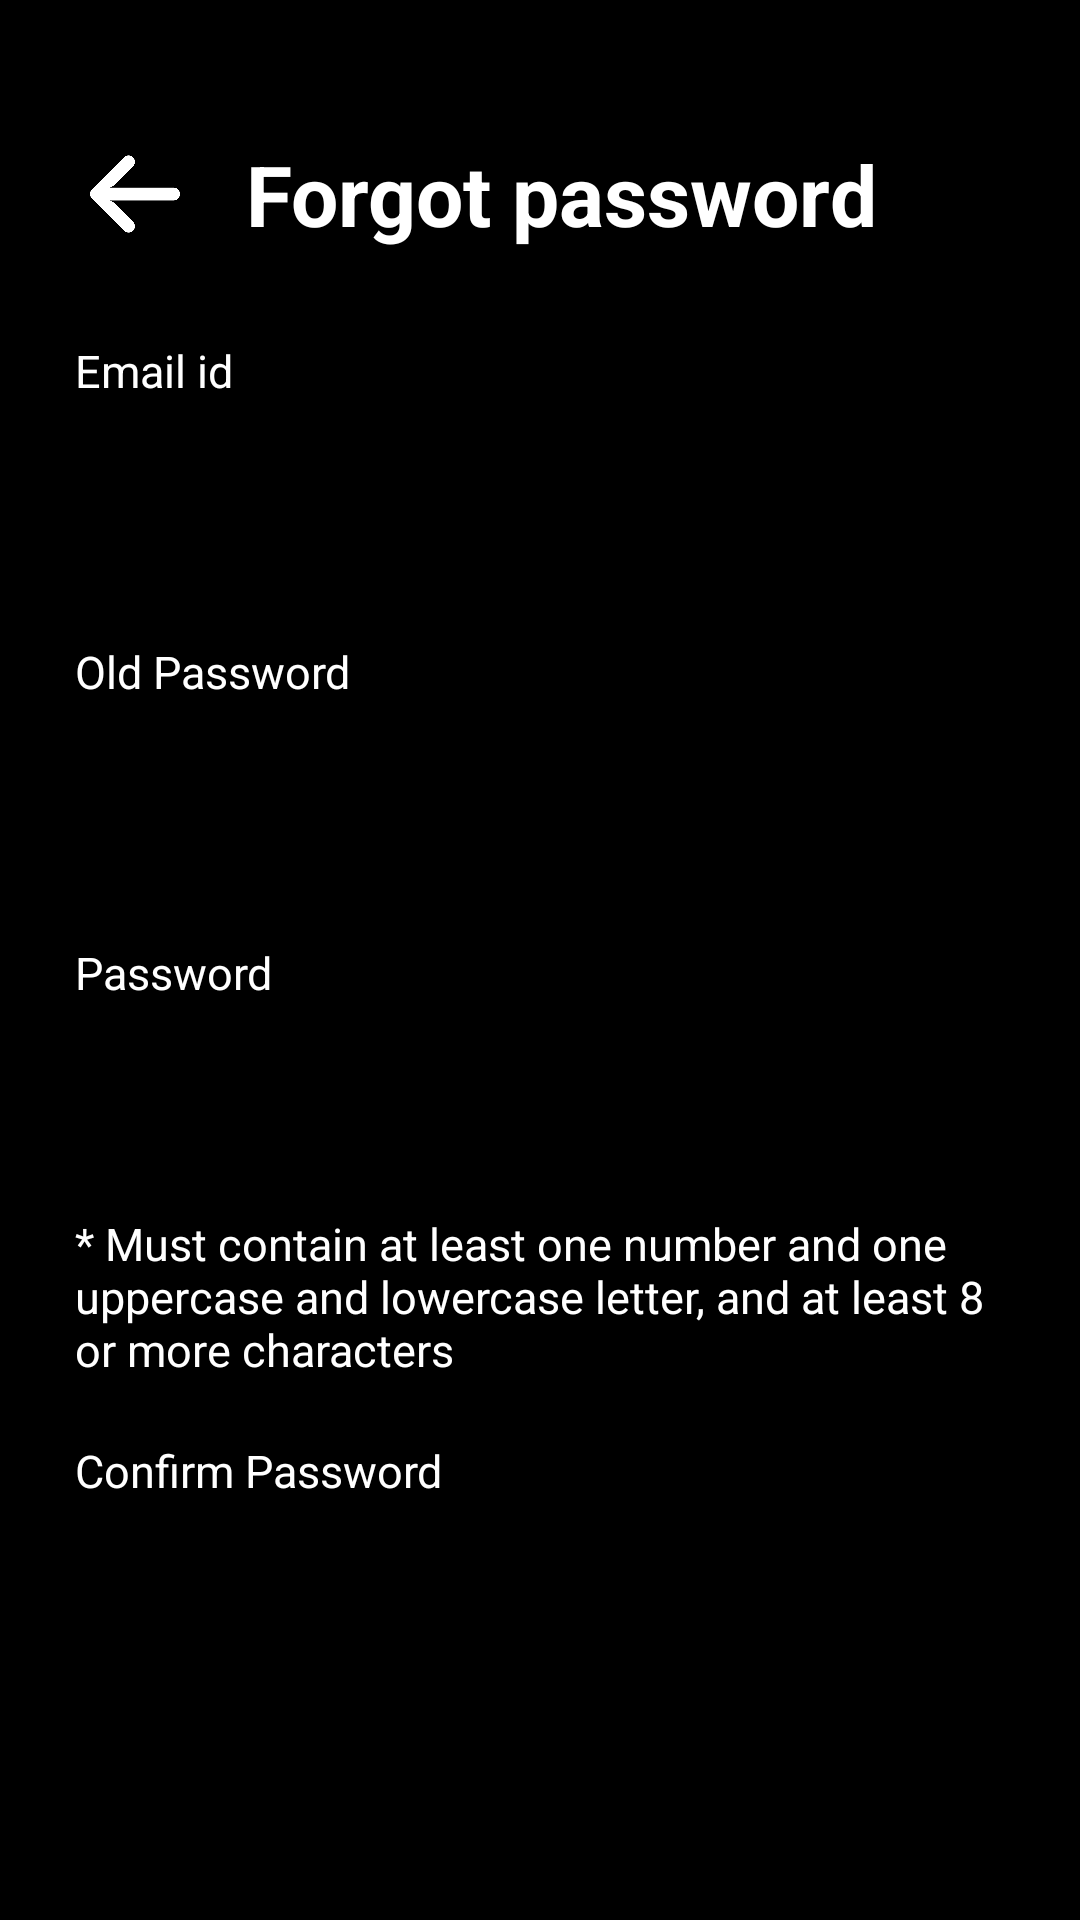

Screen size 1080 × 1920. Icon name, then its box in pixels as (x1, y1, x2, y2):
arrow: (90, 155, 180, 233)
